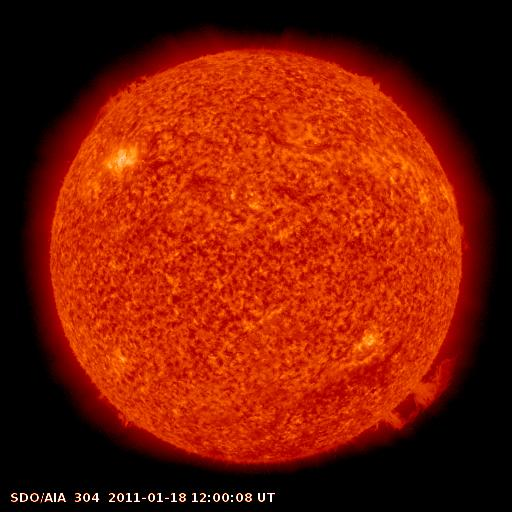prominence: (367, 345, 477, 437), (83, 63, 165, 133), (346, 60, 381, 102)
